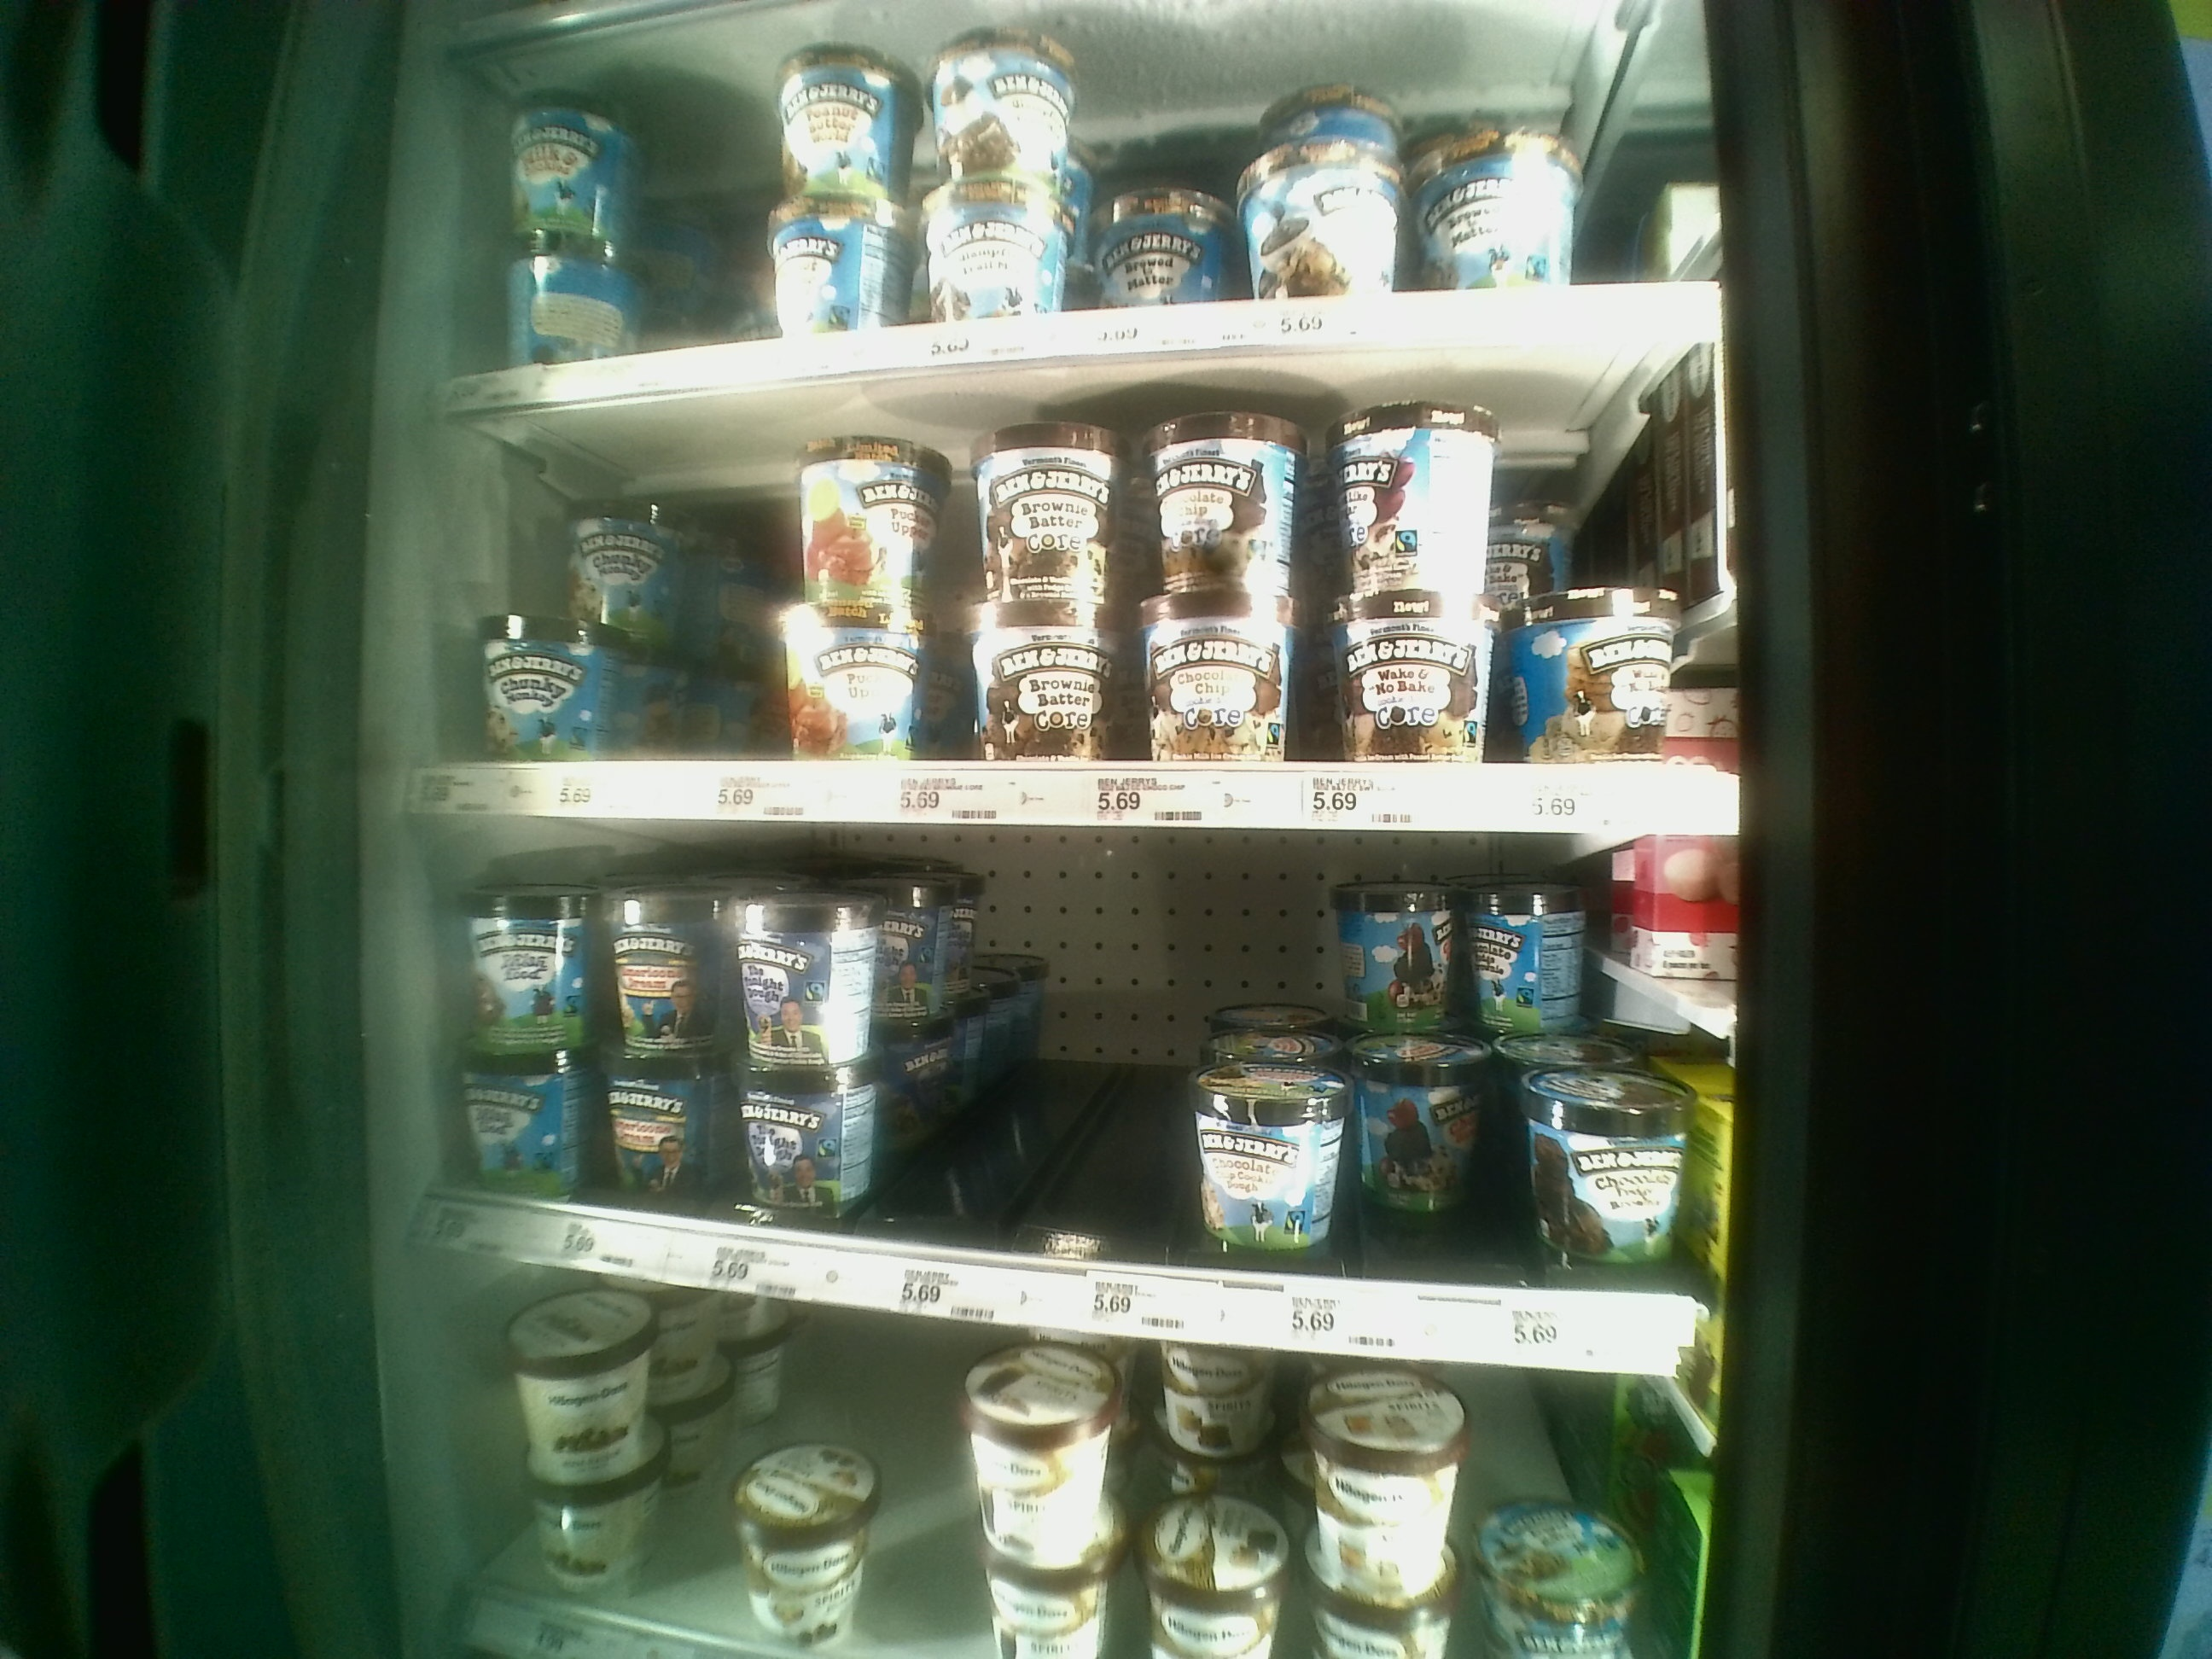ice-cream-shelf: (421, 842, 1683, 1368), (451, 382, 1712, 842)
